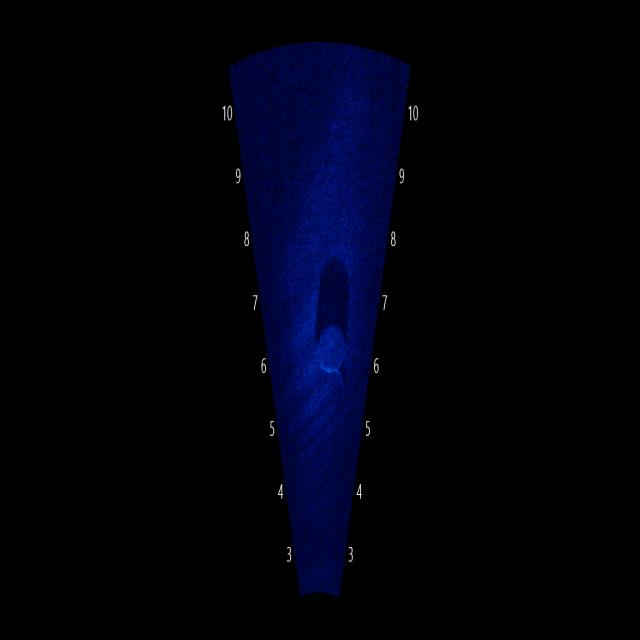circle: (311, 308, 355, 390)
